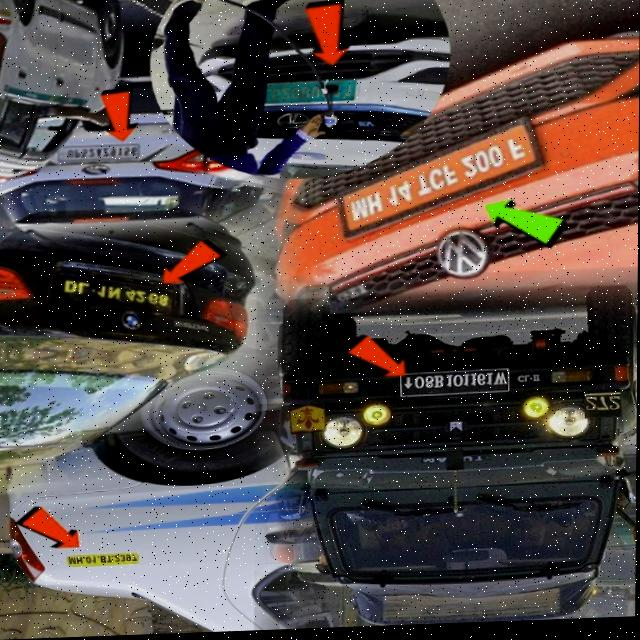plate: (333, 117, 554, 255), (53, 269, 180, 322), (398, 366, 515, 406), (251, 78, 356, 111), (52, 140, 144, 167), (66, 549, 148, 571)
